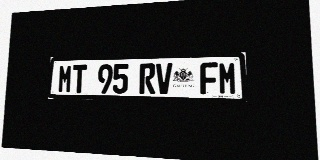5: (113, 64, 128, 94)
9: (97, 64, 113, 93)
F: (200, 62, 218, 95)
M: (218, 62, 237, 95), (58, 65, 73, 93)
R: (139, 63, 155, 94)
T: (72, 64, 87, 93)
V: (156, 63, 172, 94)
